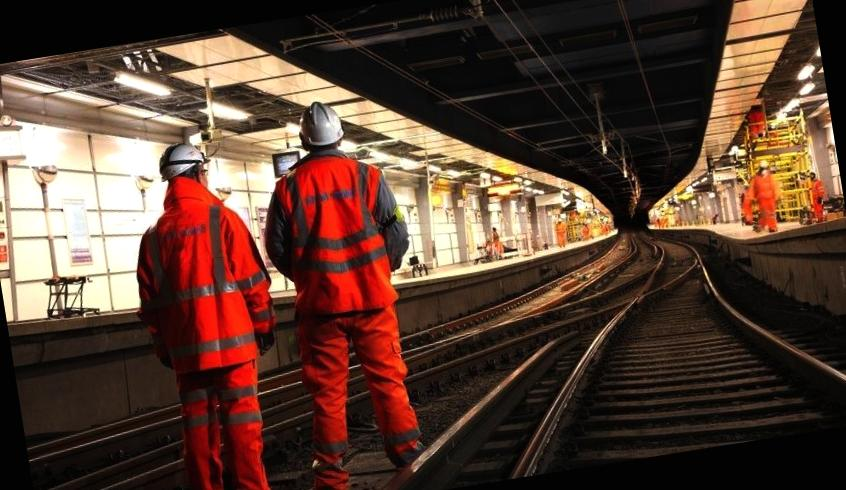helmet: (289, 92, 358, 164), (156, 140, 212, 188)
person: (239, 81, 453, 490), (111, 134, 300, 490)
